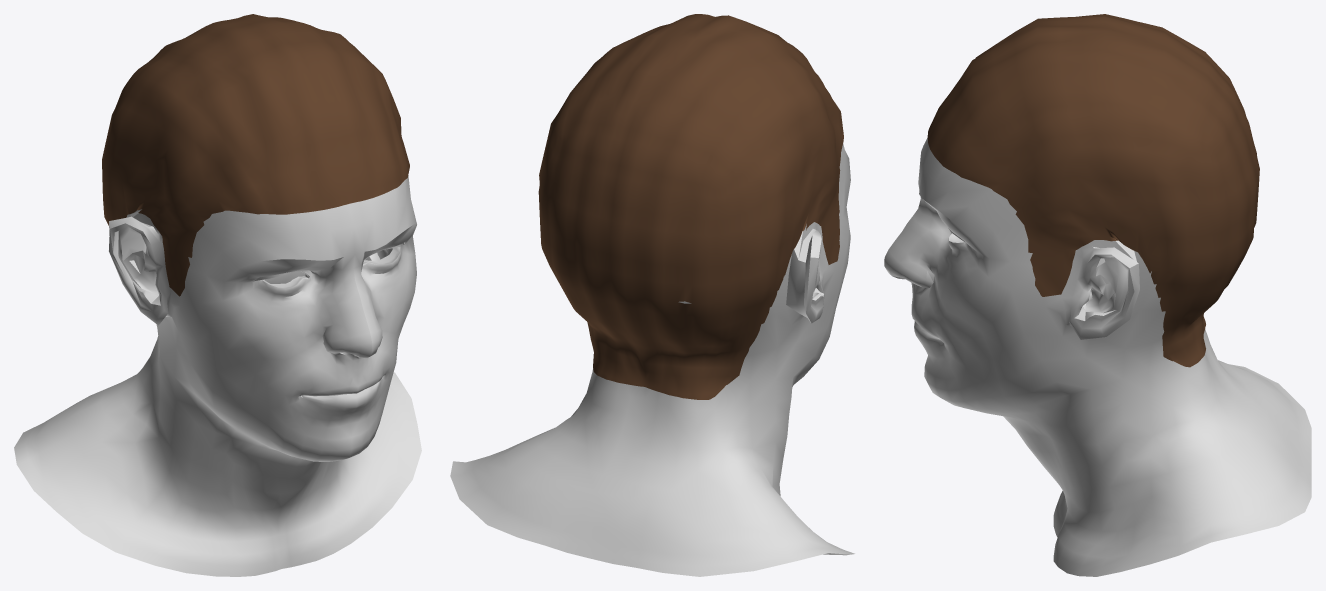
The model's file is male_head_hair.glb.
3 views of the same model, side by side, from view 1: azimuth 30°, elevation 25°; view 2: azimuth 150°, elevation 25°; view 3: azimuth 270°, elevation 25° (orthographic).
Parts seen in each view (by area): view 1: ClinicalHead, SCALP_HAIR_SOURCE; view 2: SCALP_HAIR_SOURCE, ClinicalHead; view 3: ClinicalHead, SCALP_HAIR_SOURCE.
Boxes of the visible parts, x1=… form: ClinicalHead: x1=14, y1=175, x2=421, y2=576; SCALP_HAIR_SOURCE: x1=102, y1=14, x2=409, y2=296; SCALP_HAIR_SOURCE: x1=538, y1=14, x2=843, y2=399; ClinicalHead: x1=450, y1=143, x2=854, y2=576; ClinicalHead: x1=884, y1=138, x2=1311, y2=576; SCALP_HAIR_SOURCE: x1=927, y1=14, x2=1259, y2=367.
Bounding box in the file's own units: 3.87 × 5.14 × 3.85.
